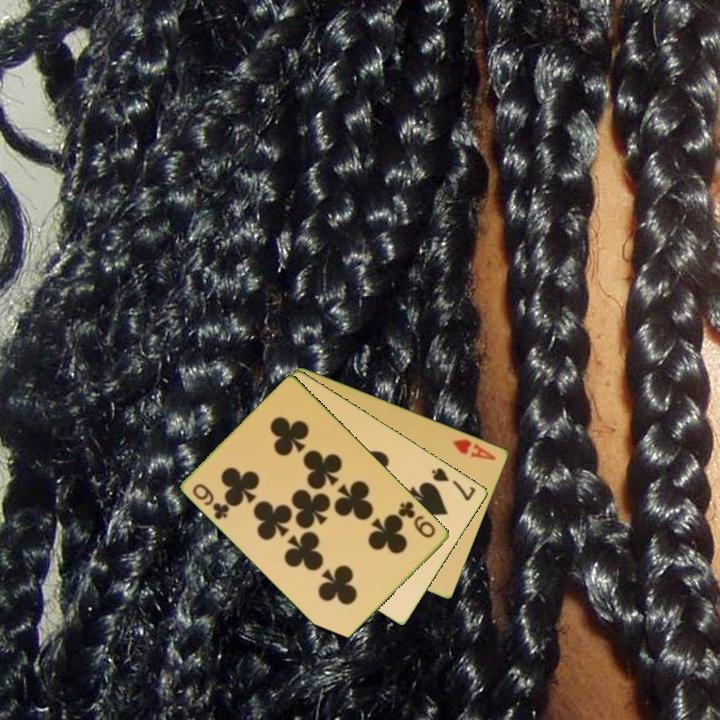7s: (428, 464, 479, 504)
9c: (395, 497, 439, 541), (189, 480, 233, 523)
Ah: (449, 435, 499, 463)
